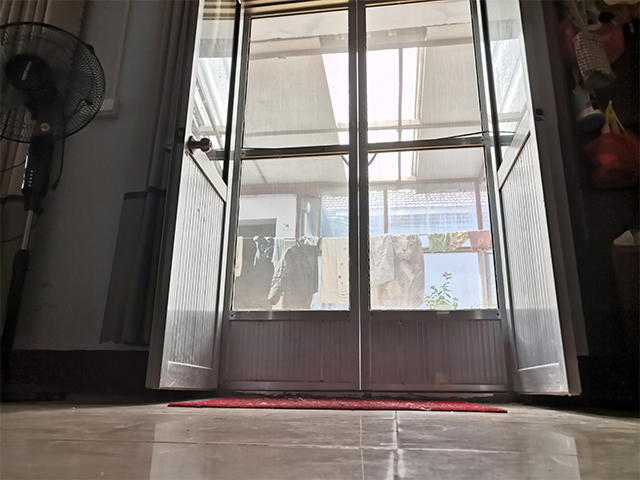carpet: (166, 395, 509, 414)
